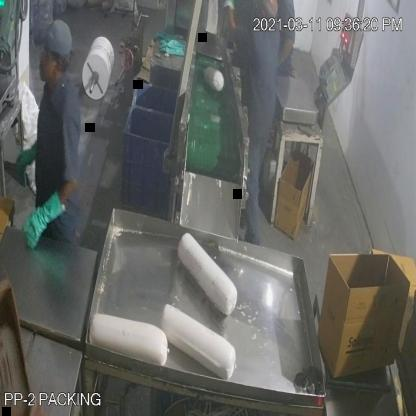glove: (19, 177, 71, 257)
